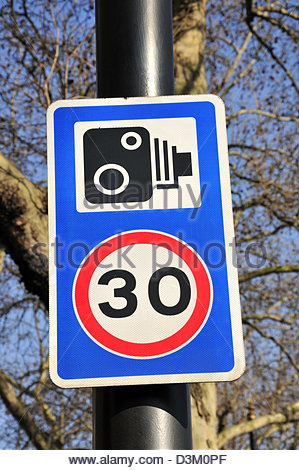Speed_limit_30km: (72, 229, 214, 357)
